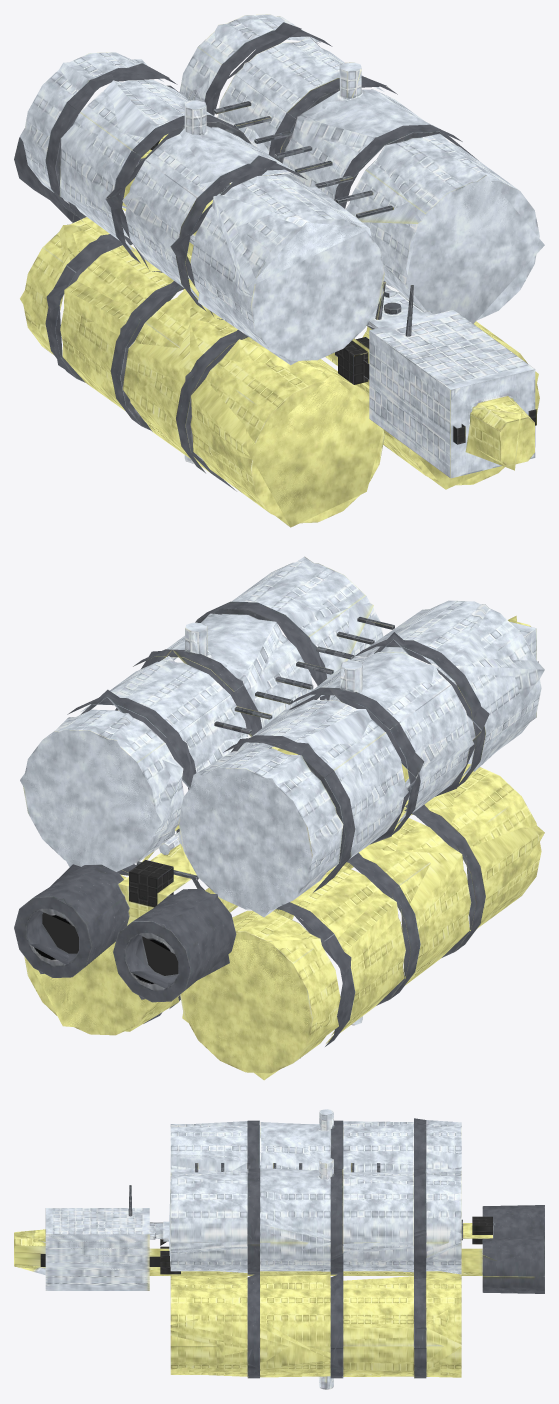
The model's file is sd_npc_tanker.glb.
3 renders of one model, top to bottom at view 1: azimuth 30°, elevation 25°; view 2: azimuth 150°, elevation 25°; view 3: azimuth 270°, elevation 25°, orthographic. The views are drawn at different scales.
Parts seen in each view (by area): view 1: LOD0_body, LOD1_body; view 2: LOD0_body, LOD1_body; view 3: LOD0_body, LOD1_body.
Boxes of the visible parts, x1,y1,x2,y2 form: LOD0_body: (14,14,539,523); LOD1_body: (20,16,544,527); LOD0_body: (14,562,541,1073); LOD1_body: (20,556,544,1080); LOD0_body: (14,1109,544,1389); LOD1_body: (14,1110,544,1388).
Size of the model in its own units: 0.4308 by 0.4706 by 1.
1 material, 1 textured.
